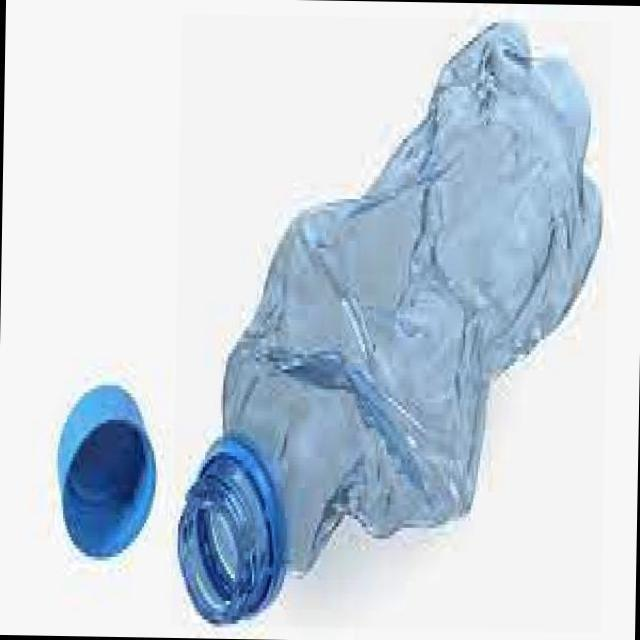defected: (170, 14, 612, 632)
